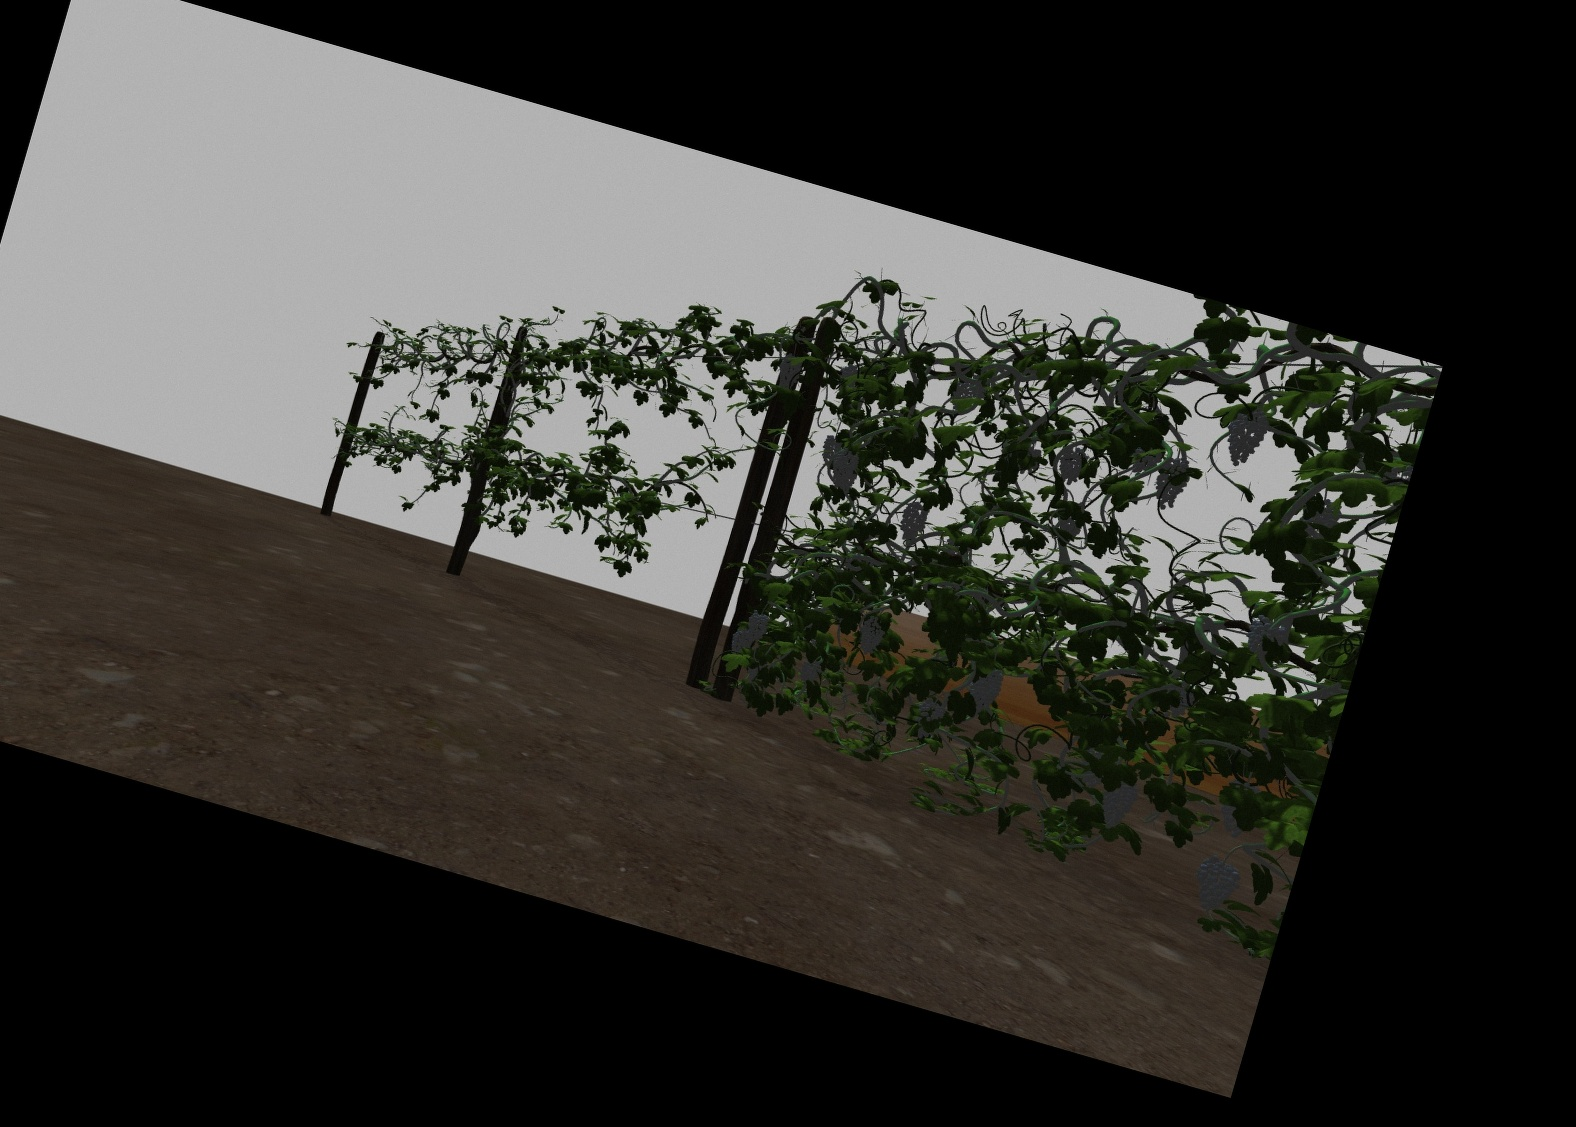grape: (1194, 856, 1241, 914), (1225, 410, 1263, 466), (1099, 776, 1134, 833), (1244, 616, 1286, 656), (967, 666, 1000, 716), (1154, 457, 1184, 509), (899, 501, 927, 543), (917, 696, 943, 740), (1054, 449, 1084, 485), (832, 451, 859, 492), (858, 617, 883, 656), (953, 377, 983, 407), (775, 359, 800, 388), (745, 614, 768, 642), (818, 435, 840, 465), (729, 629, 751, 657), (798, 660, 818, 683)
